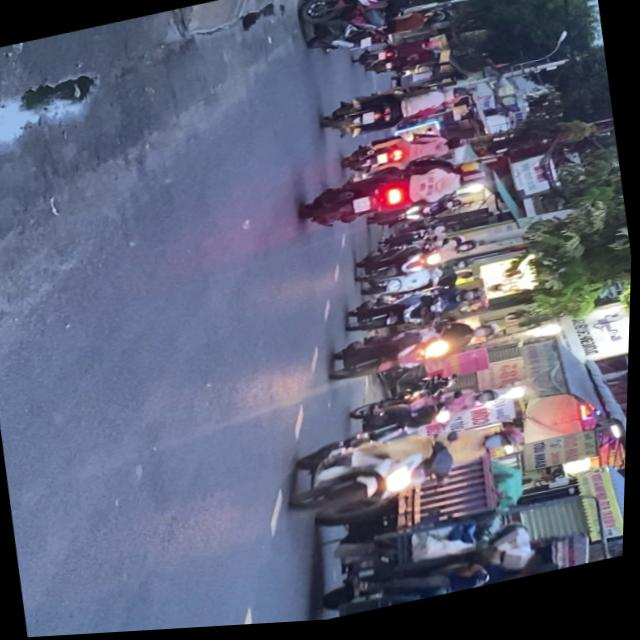helmet: (482, 430, 530, 461), (476, 391, 506, 412), (474, 327, 505, 347), (460, 174, 486, 194), (462, 292, 487, 308), (460, 165, 483, 180)
licenseplate: (277, 403, 536, 525), (299, 157, 491, 238), (328, 310, 510, 392), (346, 374, 511, 454), (343, 281, 489, 345)
nohelmet: (355, 201, 374, 217)
